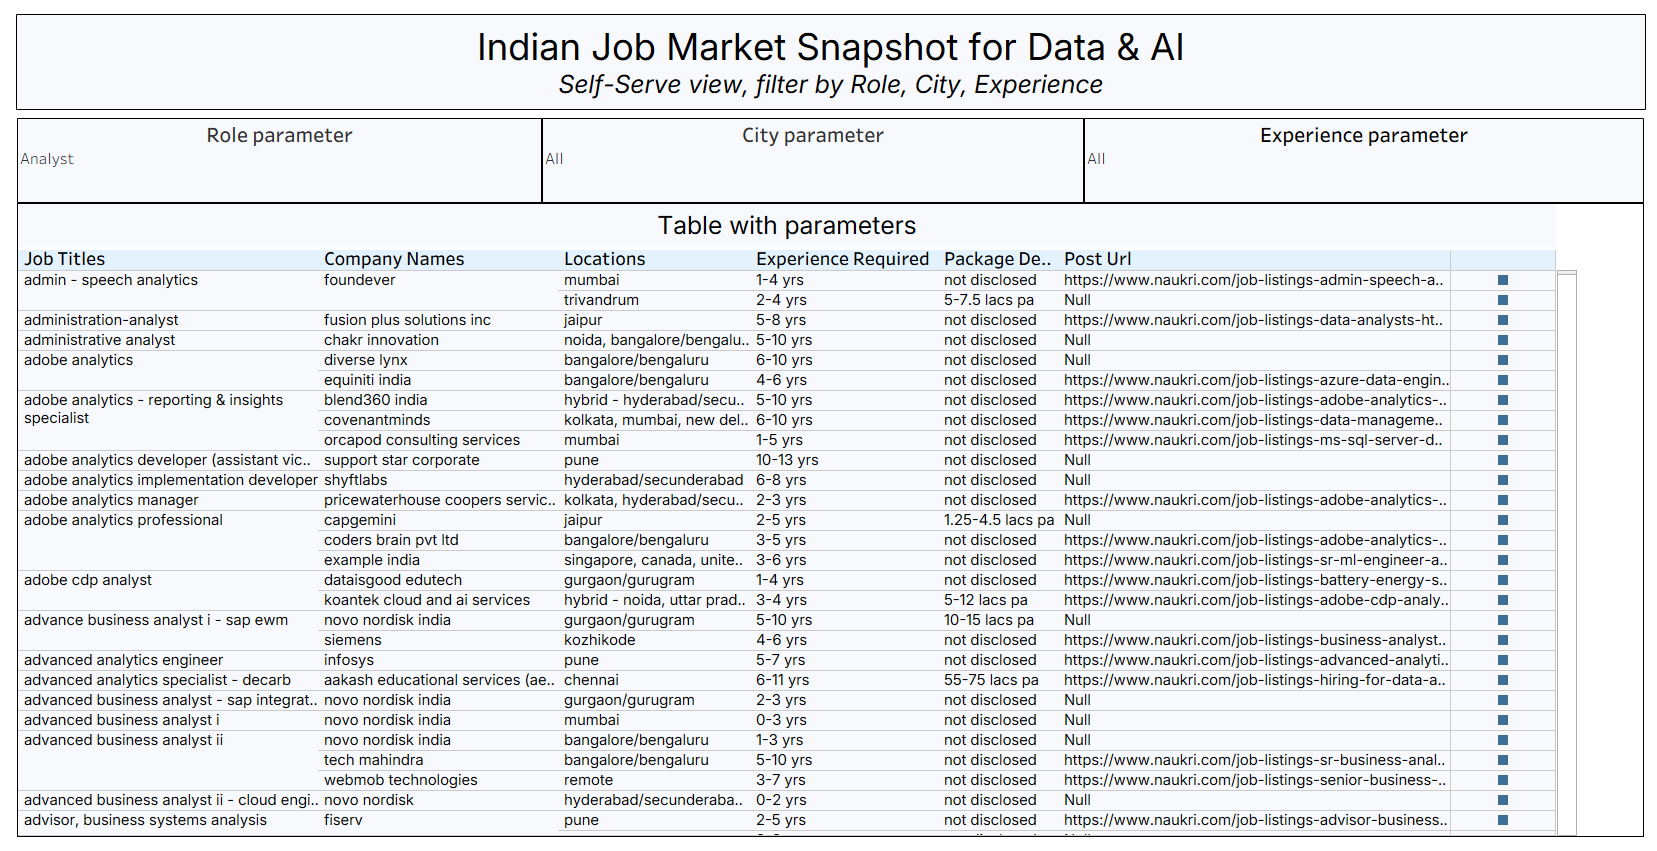

Layout of this report page (visuals, bound fields, positions):
{"tool":"tableau","page":{"name":"Tier3 Self serve","canvas":[1000,1000],"units":"permille","ordinal":2},"visuals":[{"type":"text","box":[7.3,11.8,988.3,122.4]},{"type":"parameter","param":"[Parameters].[Parameter 1336779509293058]","box":[10.2,138.8,317,100]},{"type":"parameter","param":"[Parameters].[Parameter 1336779510124547]","box":[327.2,138.8,327.2,100]},{"type":"parameter","param":"[Parameters].[Parameter 1336779510677508]","box":[654.5,138.8,337.5,100]},{"type":"worksheet","title":"Table with parameters","mark":"Automatic","rows":["job_titles","company_names","locations","experience_required","package_details","post_url"],"box":[10.2,238.8,981.7,744.7]}]}

Visuals, with their boxes on the dashboard's canvas, which has no fixed pixel size, in thousandths of its width and height (x1, y1, x2, y2). These are canvas units, not pixel positions in the 1657x851 screenshot, which may show the page scaled, cropped or inside an application window:
text: region(7, 12, 996, 134)
parameter: region(10, 139, 327, 239)
parameter: region(327, 139, 654, 239)
parameter: region(654, 139, 992, 239)
"Table with parameters" worksheet: region(10, 239, 992, 984)
